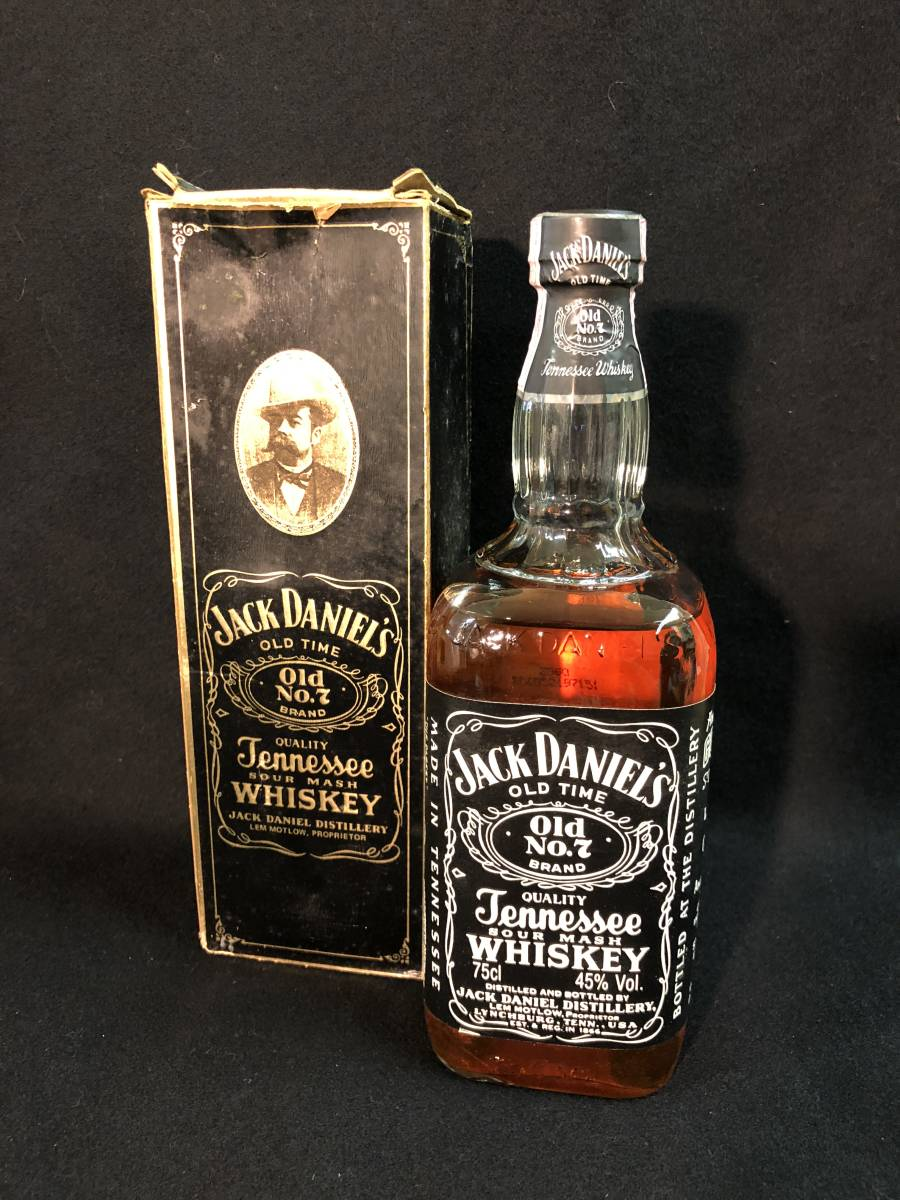Jack Daniel: (404, 194, 731, 1115)
